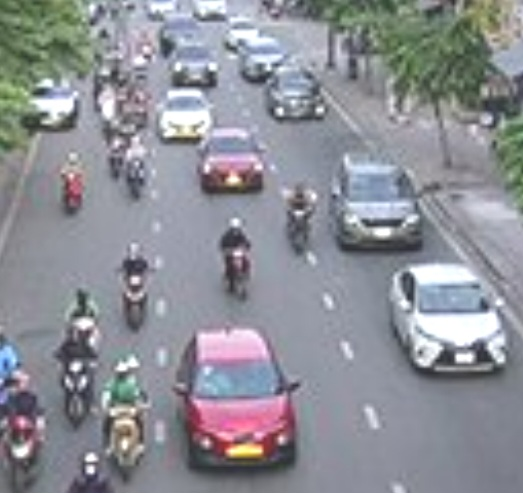car: (174, 329, 299, 470), (388, 263, 507, 380), (330, 154, 424, 252), (198, 127, 264, 199), (266, 66, 328, 120), (156, 87, 214, 141)
